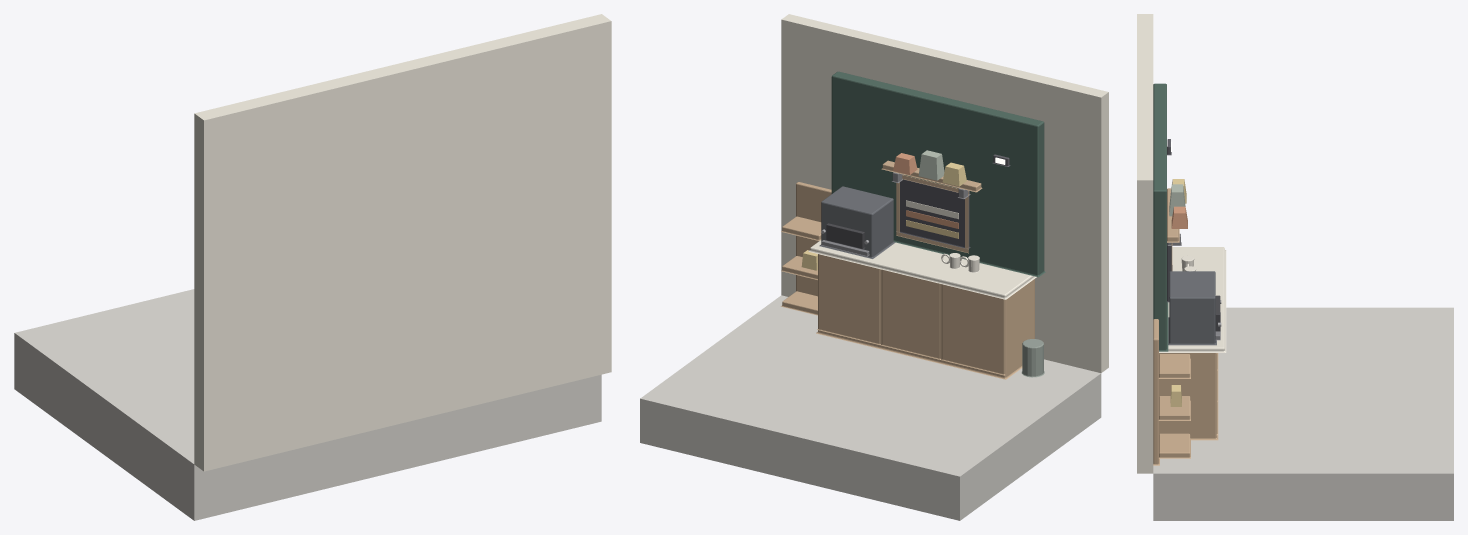
Rendered from vq1c-coffee-corner-lightmapped-r1.glb.
3 renders of one model, left to right at view 1: azimuth 30°, elevation 25°; view 2: azimuth 150°, elevation 25°; view 3: azimuth 270°, elevation 25°, orthographic. The views are drawn at different scales.
Parts seen in each view (by area): view 1: Runtime_WallGround; view 2: Runtime_WallGround, Runtime_BackgroundPlate, Runtime_MainCabinet, Runtime_Countertop, Runtime_MenuBoard, Runtime_CoffeeMachine, Runtime_SideRack, Runtime_Packaging, Runtime_TrashBin, Runtime_OpenShelf; view 3: Runtime_WallGround, Runtime_CoffeeMachine, Runtime_BackgroundPlate, Runtime_MainCabinet, Runtime_SideRack, Runtime_Countertop, Runtime_Packaging, Runtime_OpenShelf.
Part boxes in pixels (<box>): Runtime_WallGround: <box>14,14,611,520</box>; Runtime_WallGround: <box>640,14,1108,520</box>; Runtime_BackgroundPlate: <box>831,71,1045,277</box>; Runtime_MainCabinet: <box>816,254,1034,379</box>; Runtime_Countertop: <box>808,240,1036,299</box>; Runtime_MenuBoard: <box>896,175,970,253</box>; Runtime_CoffeeMachine: <box>819,186,895,258</box>; Runtime_SideRack: <box>781,182,831,315</box>; Runtime_Packaging: <box>801,150,966,270</box>; Runtime_TrashBin: <box>1021,339,1044,377</box>; Runtime_OpenShelf: <box>881,160,982,198</box>; Runtime_WallGround: <box>1137,14,1453,520</box>; Runtime_CoffeeMachine: <box>1168,271,1221,345</box>; Runtime_BackgroundPlate: <box>1153,83,1168,351</box>; Runtime_MainCabinet: <box>1159,353,1218,440</box>; Runtime_SideRack: <box>1153,319,1190,465</box>; Runtime_Countertop: <box>1159,247,1226,352</box>; Runtime_Packaging: <box>1169,179,1187,406</box>; Runtime_OpenShelf: <box>1167,188,1181,245</box>.
Bounding box in the file's own units: 3.4 × 3.25 × 2.74.
